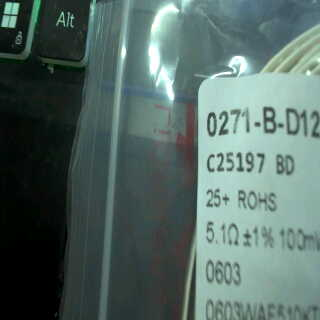5.1R: (203, 217, 243, 251)
